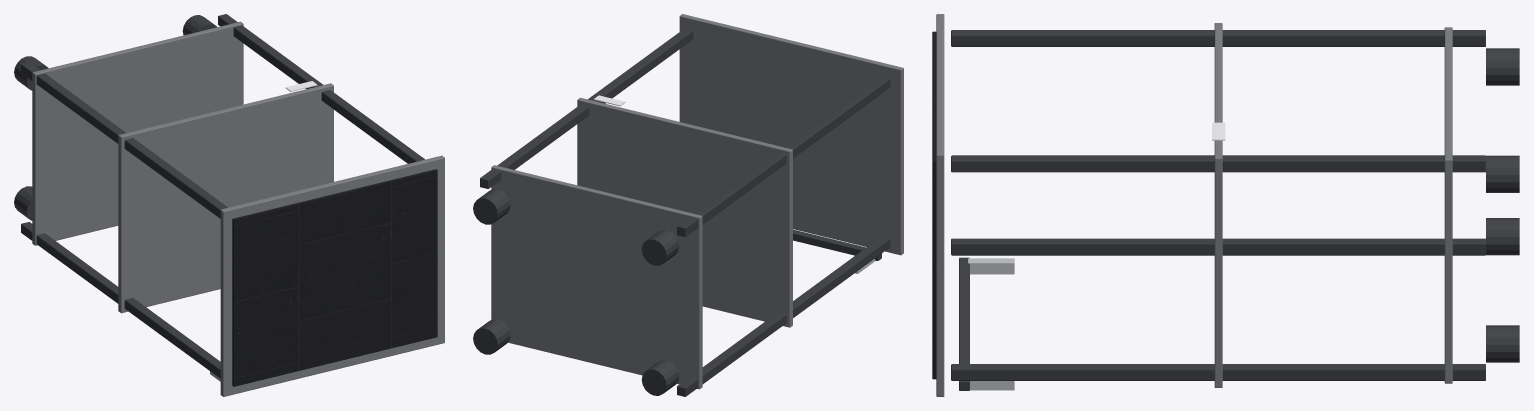
File: server_rack_sidecart.glb
The picture shows the model from 3 angles, left to right: view 1: azimuth 30°, elevation 25°; view 2: azimuth 150°, elevation 25°; view 3: azimuth 270°, elevation 25°; orthographic projection. The views are drawn at different scales.
Visible parts, largest first — view 1: cart_mat, cart_mid, cart_bottom, cart_top, cart_post-11, cart_post-1-1, cart_post11, cart_caster-1-1, cart_caster-11, cart_caster11; view 2: cart_bottom, cart_top, cart_mid, cart_post-11, cart_post-1-1, cart_post11, cart_caster1-1, cart_caster11, cart_caster-1-1, cart_caster-11, cart_handle; view 3: cart_post-1-1, cart_post11, cart_post-11, cart_post1-1, cart_top, cart_bottom, cart_mid, cart_mat, cart_caster-1-1, cart_caster-11, cart_caster1-1, cart_caster11 (+2 smaller).
Part boxes in pixels (x1,y1,x2,y2): cart_mat: (232, 169, 437, 386); cart_mid: (118, 83, 333, 313); cart_bottom: (32, 21, 243, 245); cart_top: (220, 155, 444, 396); cart_post-11: (21, 62, 227, 218); cart_post-1-1: (21, 222, 220, 378); cart_post11: (218, 14, 424, 163); cart_caster-1-1: (14, 186, 32, 220); cart_caster-11: (14, 56, 48, 90); cart_caster11: (182, 15, 216, 35); cart_bottom: (491, 165, 702, 389); cart_top: (679, 14, 903, 255); cart_mid: (577, 97, 792, 327); cart_post-11: (677, 76, 890, 236); cart_post-1-1: (677, 236, 890, 396); cart_post11: (480, 28, 693, 188); cart_caster1-1: (473, 319, 510, 354); cart_caster11: (473, 189, 510, 224); cart_caster-1-1: (641, 360, 679, 395); cart_caster-11: (641, 230, 679, 265); cart_handle: (793, 229, 881, 260); cart_post-1-1: (951, 238, 1485, 255); cart_post11: (951, 155, 1485, 172); cart_post-11: (951, 30, 1485, 46); cart_post1-1: (951, 364, 1485, 380); cart_top: (936, 14, 944, 396); cart_bottom: (1444, 27, 1452, 383); cart_mid: (1214, 23, 1222, 387); cart_mat: (932, 31, 936, 379); cart_caster-1-1: (1486, 218, 1519, 255); cart_caster-11: (1486, 48, 1519, 85); cart_caster1-1: (1486, 325, 1519, 362); cart_caster11: (1486, 155, 1519, 192).
Bounding box in the file's own units: 0.5 × 0.408 × 0.878.
Materials: 5 (1 with a texture image).
